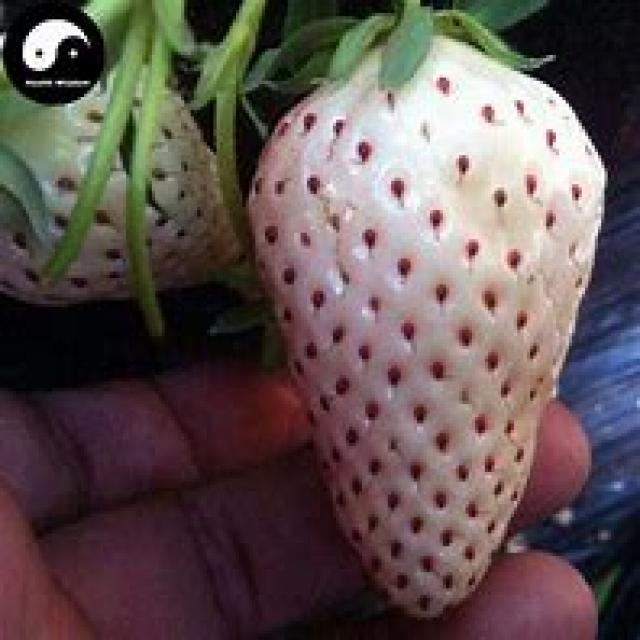Berries strawberries/blueberries: (246, 35, 600, 616)
